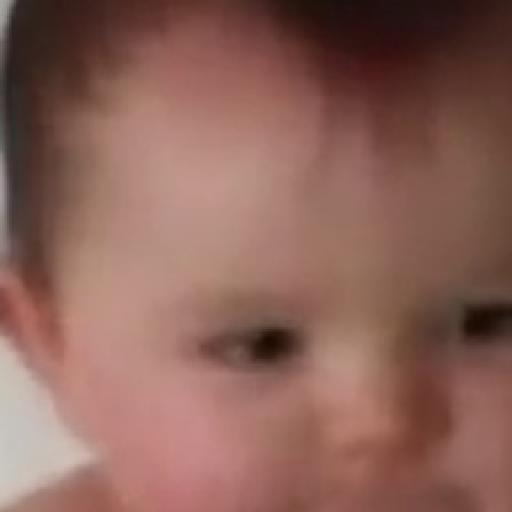Autism: (113, 85, 512, 512)
